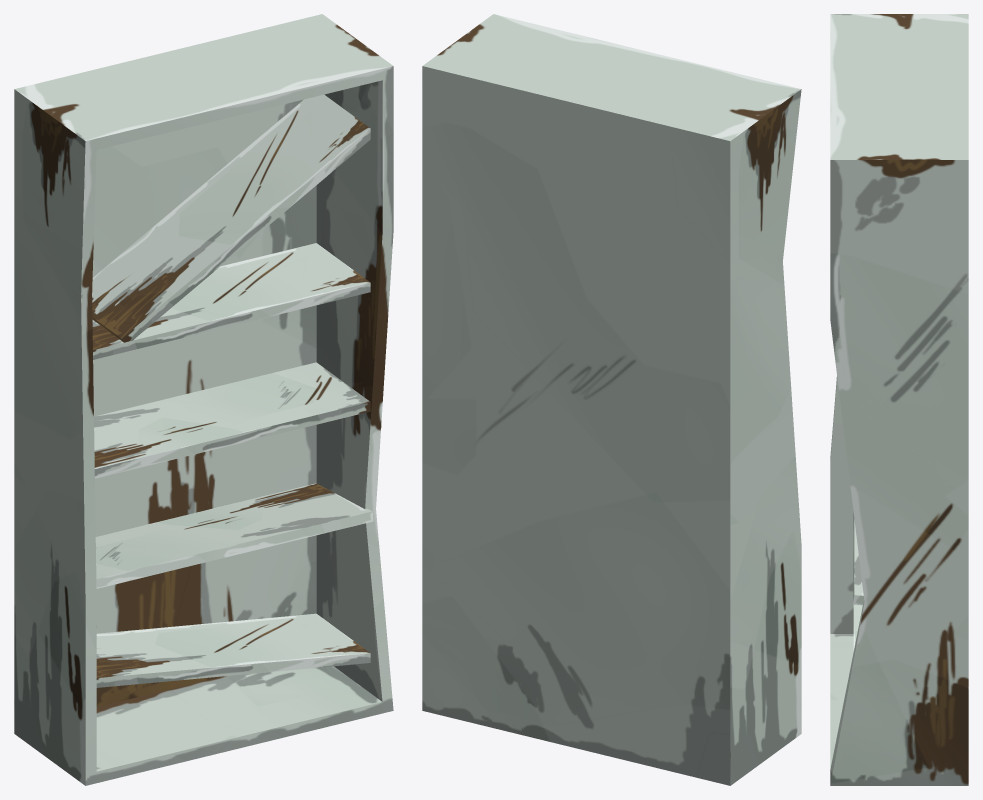
The model's file is Bookshelf_1.glb.
The picture shows the model from 3 angles, left to right: view 1: azimuth 30°, elevation 25°; view 2: azimuth 150°, elevation 25°; view 3: azimuth 270°, elevation 25°; orthographic projection. The views are drawn at different scales.
Parts seen in each view (by area): view 1: Bookshelf_1, Shelf_1, Shelf_3, Shelf_5, Shelf_4, Shelf_2; view 2: Bookshelf_1; view 3: Bookshelf_1, Shelf_4, Shelf_5.
Boxes of the visible parts, bbox=[...] form: Bookshelf_1: bbox=[14, 14, 393, 785]; Shelf_1: bbox=[92, 94, 370, 342]; Shelf_3: bbox=[94, 362, 370, 478]; Shelf_5: bbox=[96, 613, 370, 687]; Shelf_4: bbox=[95, 483, 373, 588]; Shelf_2: bbox=[92, 243, 370, 359]; Bookshelf_1: bbox=[422, 14, 801, 785]; Bookshelf_1: bbox=[830, 14, 968, 785]; Shelf_4: bbox=[853, 511, 864, 605]; Shelf_5: bbox=[853, 604, 862, 650].
Bounding box in the file's own units: 1 × 2 × 0.4.
Materials: 1 (1 with a texture image).
